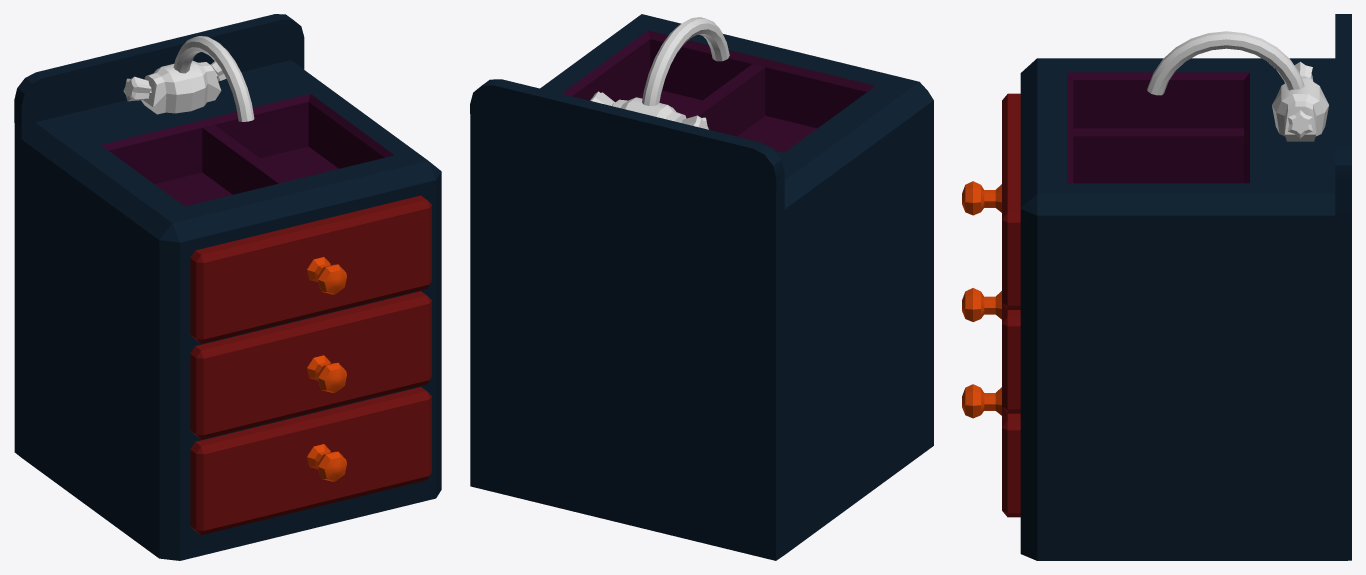
The model's file is Mesh_meuble_cuisine_001.fbx.
3 renders of one model, left to right at view 1: azimuth 30°, elevation 25°; view 2: azimuth 150°, elevation 25°; view 3: azimuth 270°, elevation 25°, orthographic. The views are drawn at different scales.
Parts seen in each view (by area): view 1: polySurface22, Mesh_Robinet, polySurface15; view 2: polySurface22, Mesh_Robinet; view 3: polySurface22, Mesh_Robinet, polySurface16.
Boxes of the visible parts, bbox=[...] form: polySurface22: bbox=[14, 14, 441, 560]; Mesh_Robinet: bbox=[141, 36, 254, 121]; polySurface15: bbox=[123, 76, 151, 101]; polySurface22: bbox=[470, 14, 933, 560]; Mesh_Robinet: bbox=[612, 17, 729, 122]; polySurface22: bbox=[962, 14, 1351, 560]; Mesh_Robinet: bbox=[1147, 31, 1328, 141]; polySurface16: bbox=[1288, 110, 1312, 138].
Bounding box in the file's own units: 80.07 × 113 × 88.25.
